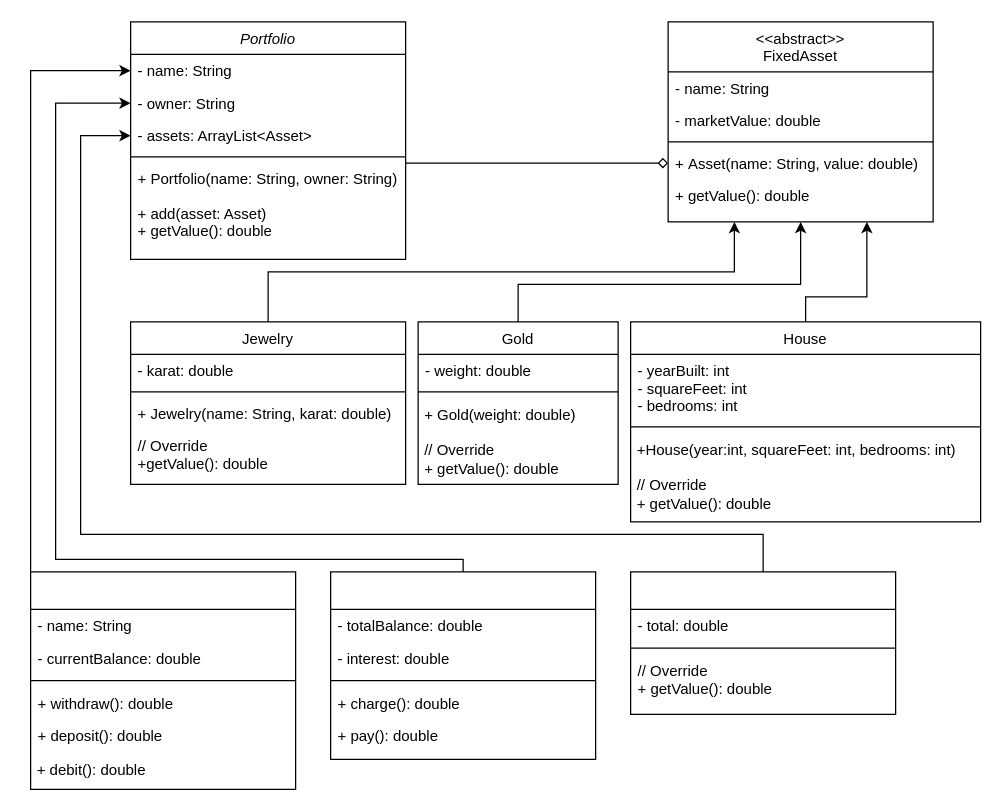
Some shapes in this 1003 by 811 pixel diagram are drawn without their labels. Each missing label, with the box of its shape:
BankAccount: (29, 571, 296, 789)
CreditCard: (329, 571, 596, 759)
Valuable: (629, 571, 896, 714)
